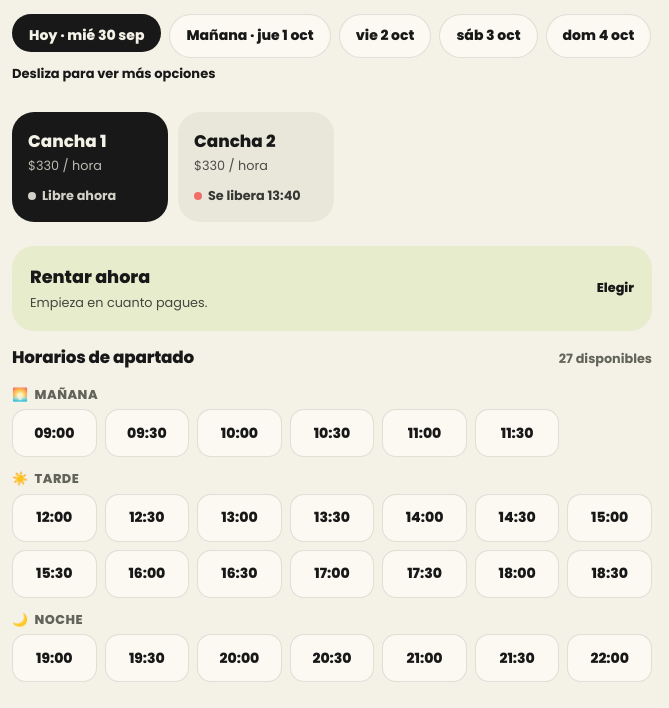
Test: ReservationsScreen › una hora ocupada no se puede elegir y una cancha ocupada no ofrece rentar ahora
Click the radio button labelled "Cancha 2 $330 / hora Se libera 13:40": (256, 167) top-left (178, 112), bottom-right (334, 222)
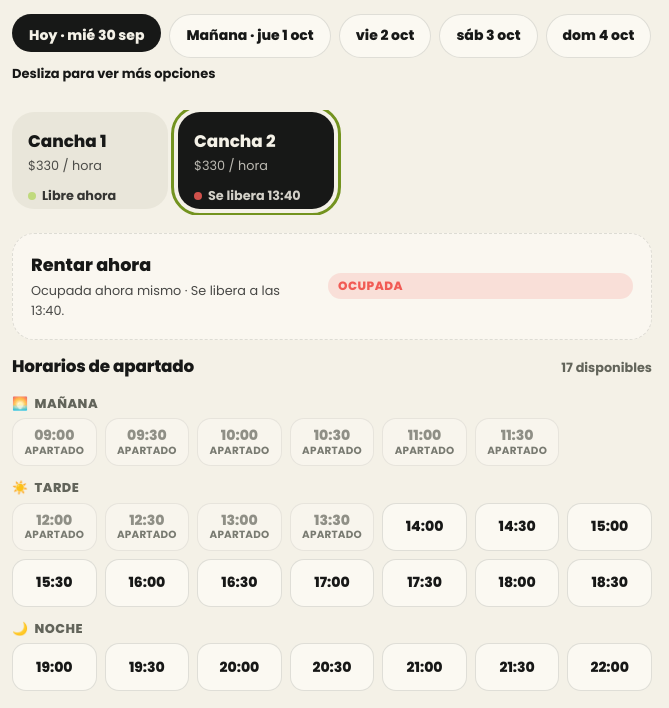
Expected: the radio button labelled "14:00" is enabled, top-left (382, 511), bottom-right (467, 559)
Result: the radio button labelled "09:00 Apartado" is disabled at top-left (12, 427), bottom-right (97, 475)
